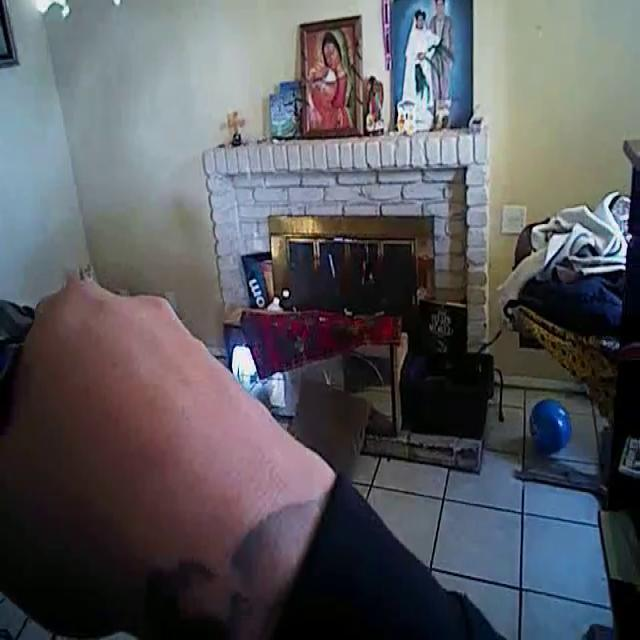gun: (0, 272, 56, 466)
